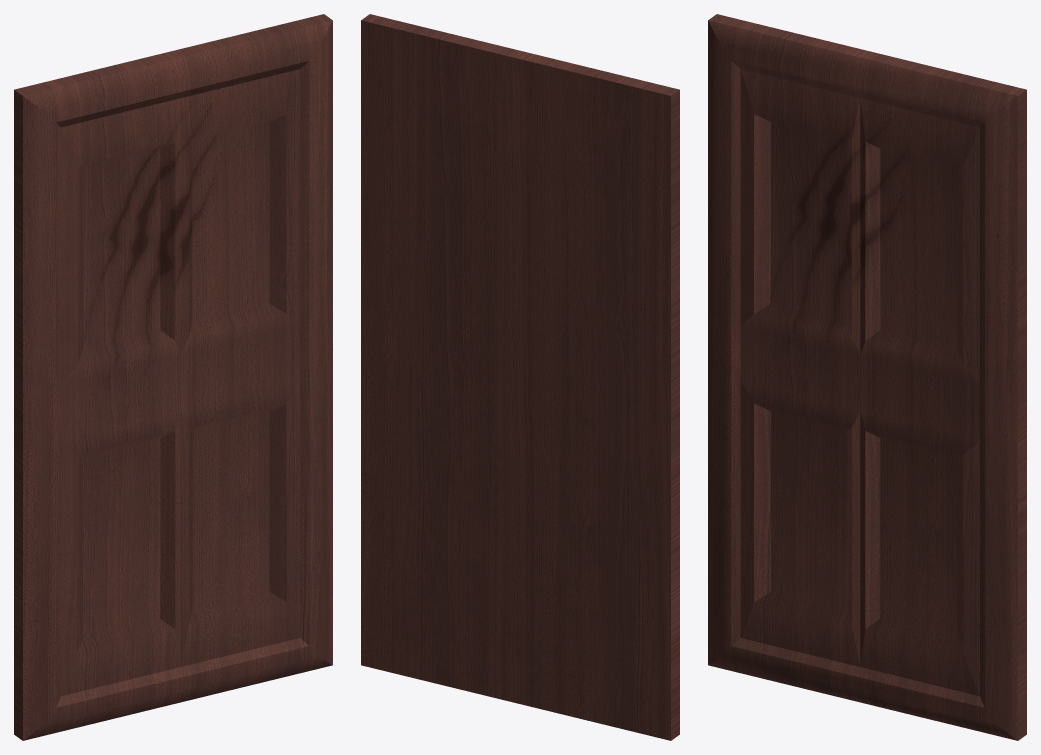
The model's file is DoorBoard.fbx.
The picture shows the model from 3 angles, left to right: view 1: azimuth 30°, elevation 25°; view 2: azimuth 150°, elevation 25°; view 3: azimuth 330°, elevation 25°; orthographic projection.
Parts seen in each view (by area): view 1: door.001; view 2: door.001; view 3: door.001.
Boxes of the visible parts, box(x1,y1,x2,y2) form: door.001: box(14, 14, 332, 740); door.001: box(361, 14, 679, 740); door.001: box(708, 14, 1026, 740).
Size of the model in its own units: 100 by 7.64 by 199.
